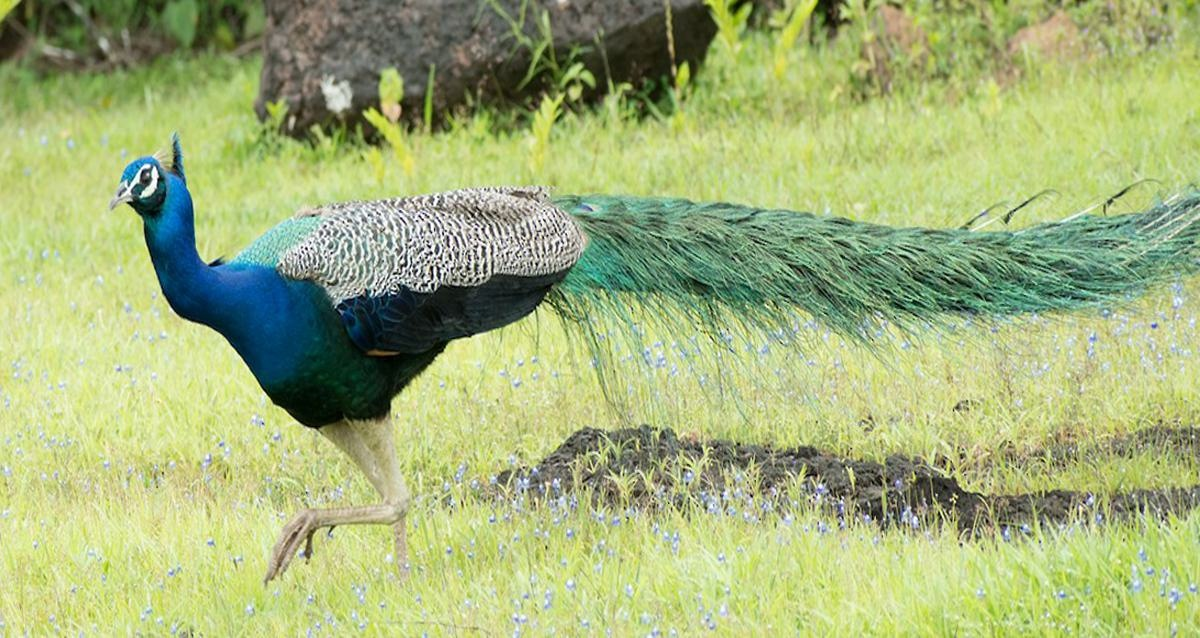peacock: (79, 96, 1177, 586)
